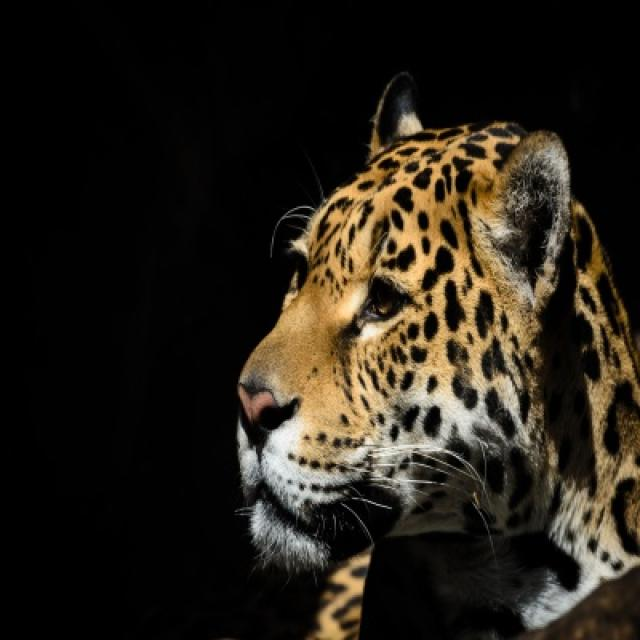Jaguar: (235, 72, 638, 638)
